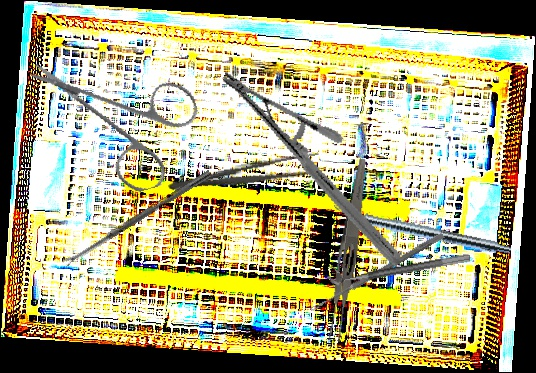Dressing Forceps: (324, 157, 371, 343), (166, 148, 323, 200)
Fixation Ring: (325, 241, 471, 288)
Handpiece: (331, 203, 513, 257)
Iris Scissors: (28, 25, 215, 212)
Needle Holder: (184, 68, 439, 269)
Surgical Spoon: (61, 169, 213, 267), (309, 231, 445, 314)
